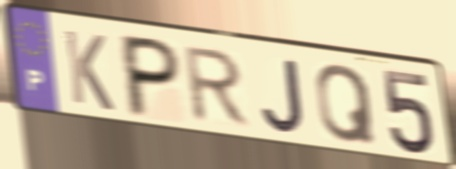5: (378, 66, 437, 156)
J: (259, 56, 308, 136)
K: (60, 26, 117, 115)
P: (121, 31, 183, 120)
Q: (314, 61, 379, 147)
R: (183, 44, 254, 130)
